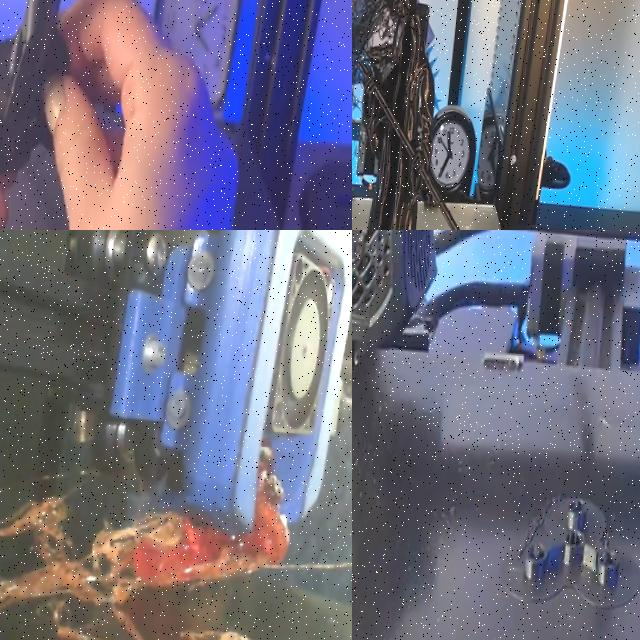spaghetti: (0, 447, 289, 640), (352, 0, 411, 123)
